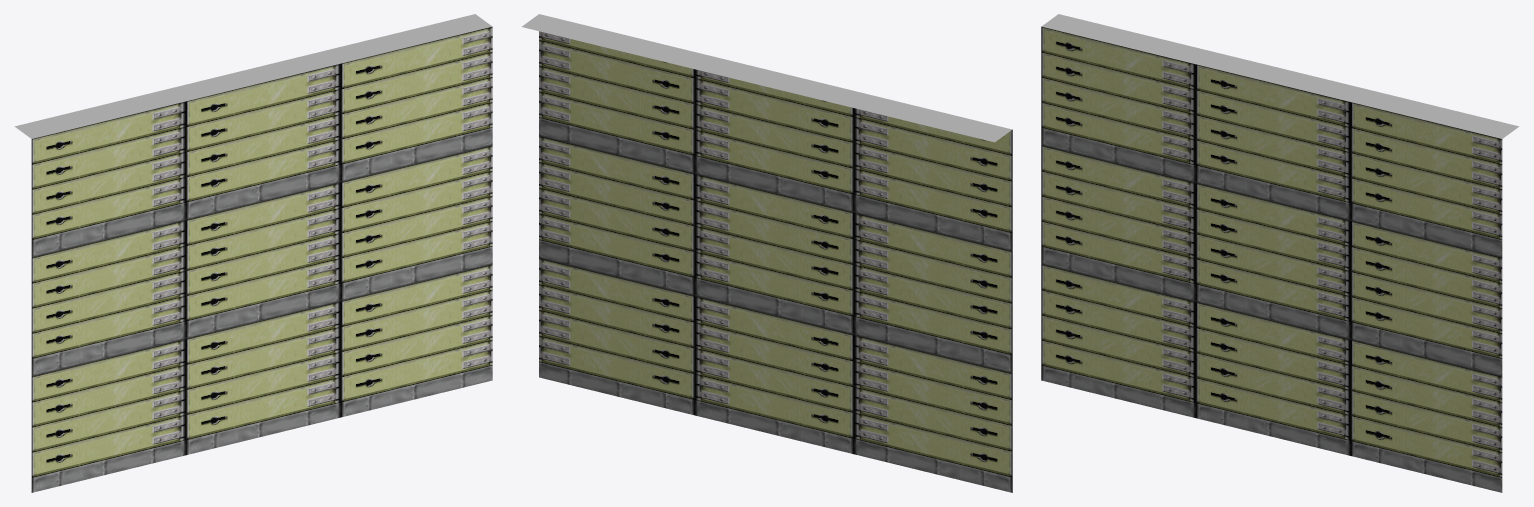
The model's file is W_I2_xx [Schließfächer]_153.glb.
The picture shows the model from 3 angles, left to right: view 1: azimuth 30°, elevation 25°; view 2: azimuth 150°, elevation 25°; view 3: azimuth 330°, elevation 25°; orthographic projection. The views are drawn at different scales.
Parts seen in each view (by area): view 1: pPlaneShape3, pPlaneShape1; view 2: pPlaneShape3, pPlaneShape1; view 3: pPlaneShape3, pPlaneShape1.
Part boxes in pixels (left/top/right/bottom): pPlaneShape3: left=31, top=26, right=492, bottom=492; pPlaneShape1: left=14, top=14, right=491, bottom=138; pPlaneShape3: left=539, top=31, right=1012, bottom=492; pPlaneShape1: left=522, top=14, right=1011, bottom=142; pPlaneShape3: left=1041, top=26, right=1502, bottom=492; pPlaneShape1: left=1042, top=14, right=1519, bottom=138.
Size of the model in its own units: 0.4752 by 0.3486 by 0.0308.
Materials: 2 (1 with a texture image).
